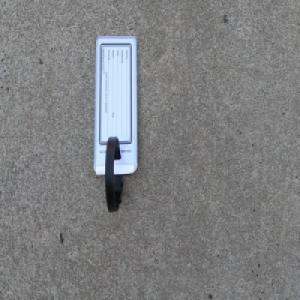LuggageTag: (92, 32, 138, 216)
